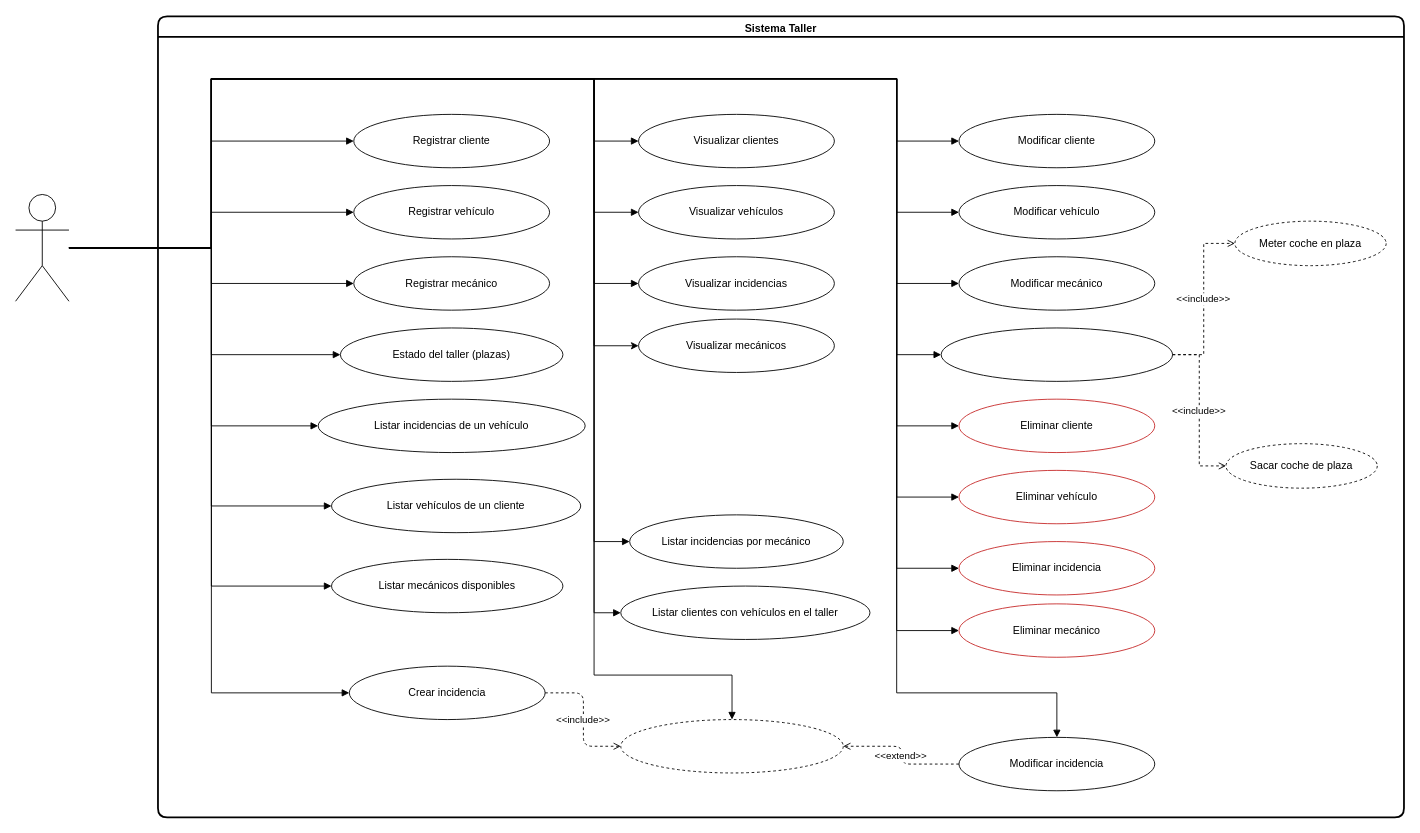
The diagram is 1420 pixels wide and 833 high, and some of its shapes have lost their labels. The box of each missing label's shape, as (x1, y1, x2, y2) in pixels:
Asignar mecánicos a incidencia: (620, 719, 843, 773)
Asignar vehículos a plazas: (940, 327, 1173, 381)
Operador: (15, 194, 69, 301)
